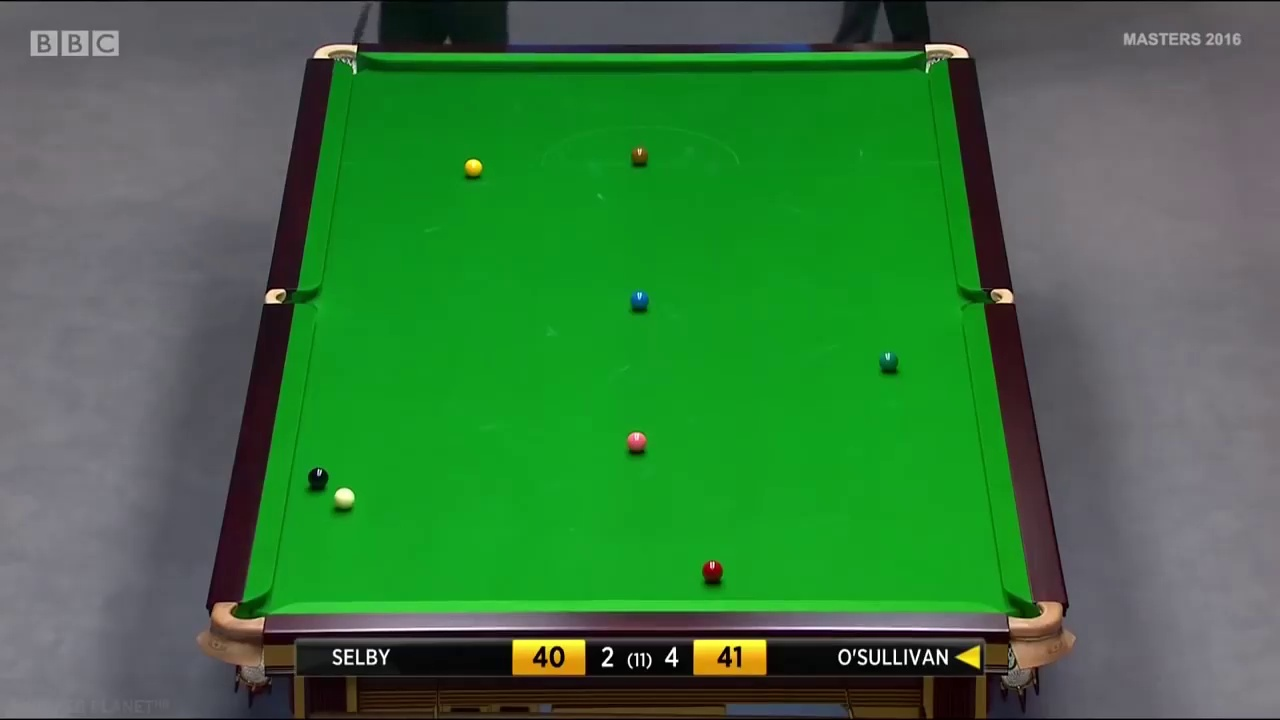ball: (623, 428, 647, 453), (304, 467, 329, 487), (462, 158, 486, 178), (627, 145, 651, 165), (330, 488, 355, 507), (702, 558, 724, 579), (879, 353, 902, 373), (629, 293, 647, 311)
